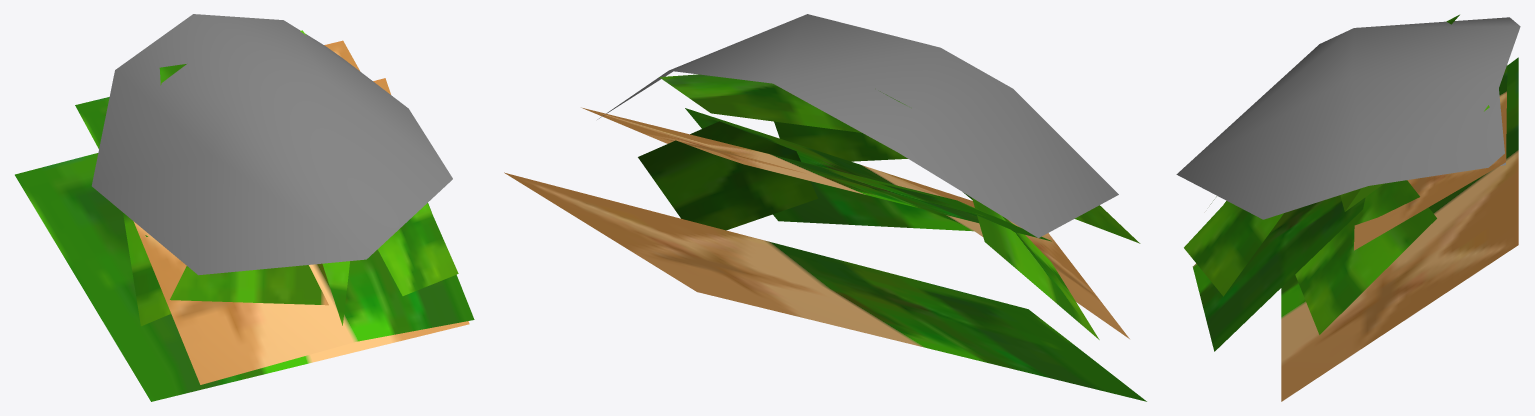
The model's file is fg_bushE_2_s.dae.
3 renders of one model, left to right at view 1: azimuth 30°, elevation 25°; view 2: azimuth 150°, elevation 25°; view 3: azimuth 270°, elevation 25°, orthographic. The views are drawn at different scales.
Visible parts, largest first — view 1: fg_bushE_2_s; view 2: fg_bushE_2_s; view 3: fg_bushE_2_s.
Boxes of the visible parts, x1,y1,x2,y2 form: fg_bushE_2_s: [15, 14, 474, 401]; fg_bushE_2_s: [504, 14, 1146, 401]; fg_bushE_2_s: [1176, 14, 1520, 401].
Size of the model in its own units: 50.84 by 35.23 by 38.03.
Materials: 1 (1 with a texture image).
